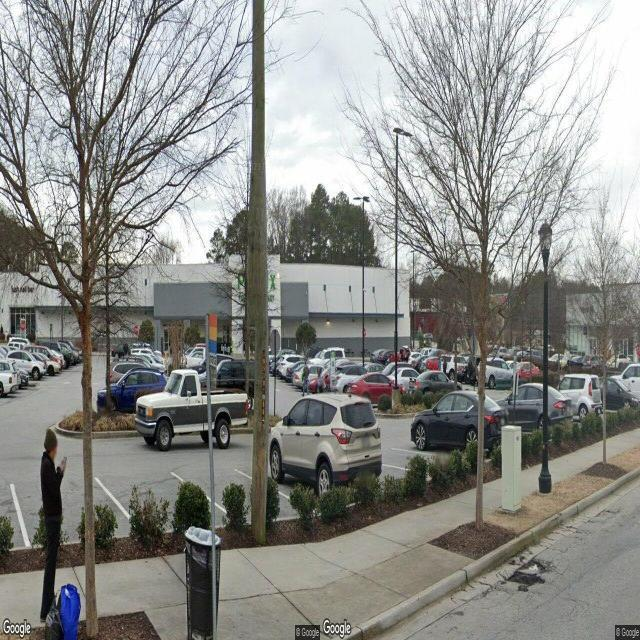trash_can: (184, 526, 220, 640)
